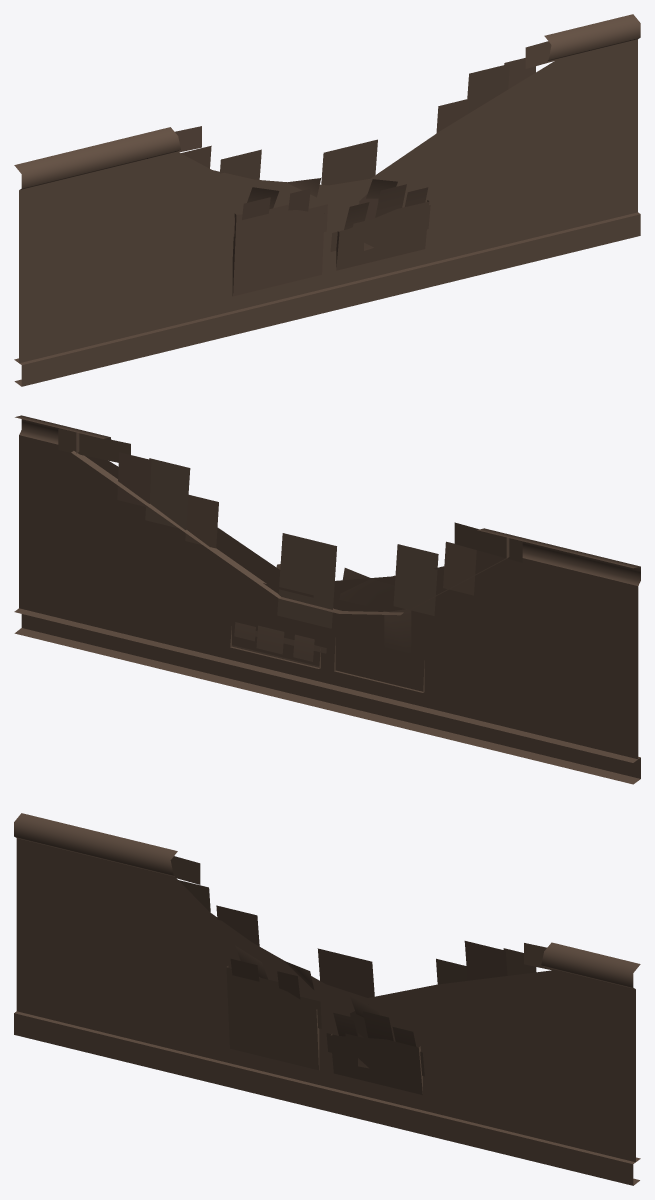
The model's file is DBK_Molding_Tile_A.fbx.
3 renders of one model, top to bottom at view 1: azimuth 30°, elevation 25°; view 2: azimuth 150°, elevation 25°; view 3: azimuth 330°, elevation 25°, orthographic.
Visible parts, largest first — view 1: DBK_Molding_Tile_A; view 2: DBK_Molding_Tile_A; view 3: DBK_Molding_Tile_A.
Part boxes in pixels (<box>): DBK_Molding_Tile_A: <box>14,14,640,386</box>; DBK_Molding_Tile_A: <box>14,415,640,784</box>; DBK_Molding_Tile_A: <box>14,813,640,1185</box>.
Bounding box in the file's own units: 300 × 100 × 13.19.
